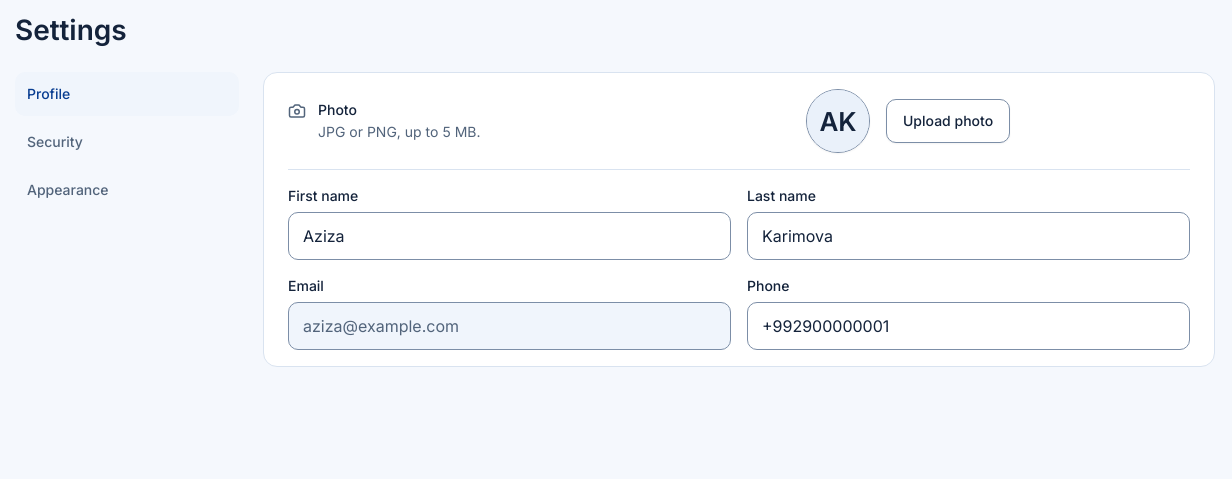
Test: Profile section › shows the save bar only when a value differs and discards back to the saved value
The width and height of the screenshot is (1232, 479).
Replace the text in the field labelled "First name" with "Zarina" at (510, 236), box [288, 212, 731, 260]
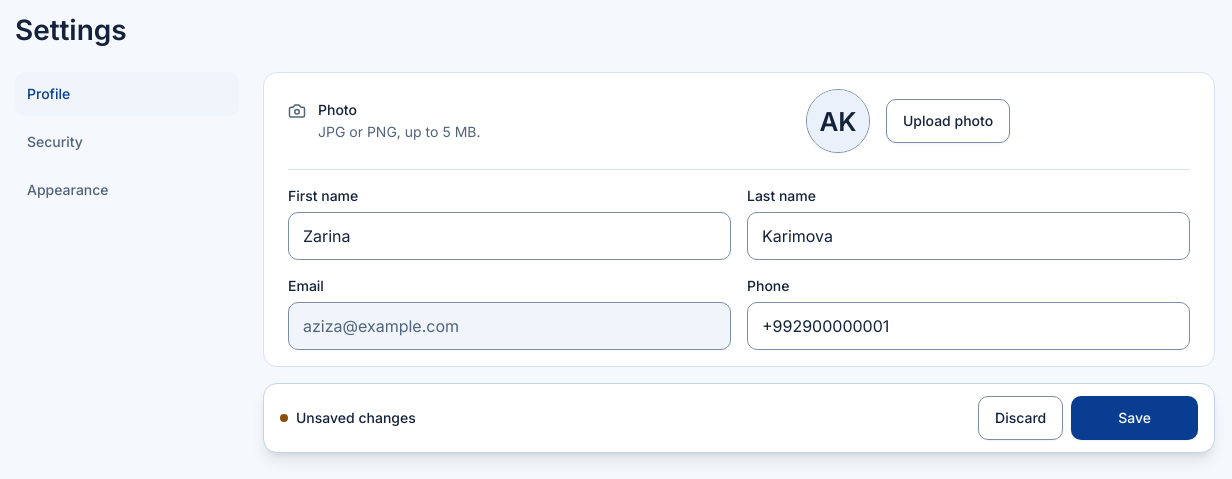
Result: the element with test id "settings-save-bar" is shown at [263, 383, 1215, 453]
Replace the text in the field labelled "First name" with "Aziza" at (510, 236), box [288, 212, 731, 260]
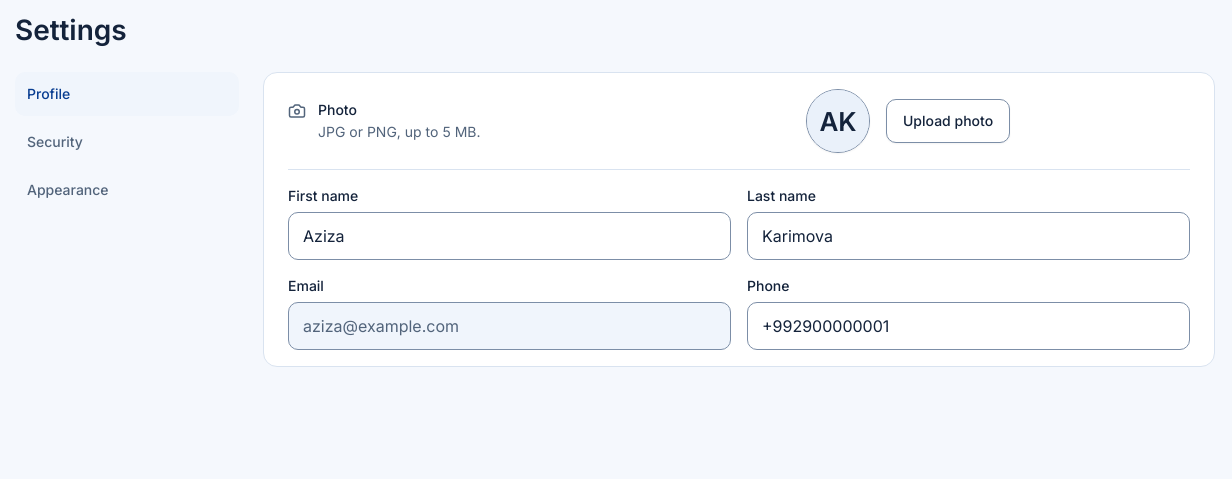
Result: the element with test id "settings-save-bar" is gone
Replace the text in the field labelled "First name" with "Zarina" at (510, 236), box [288, 212, 731, 260]
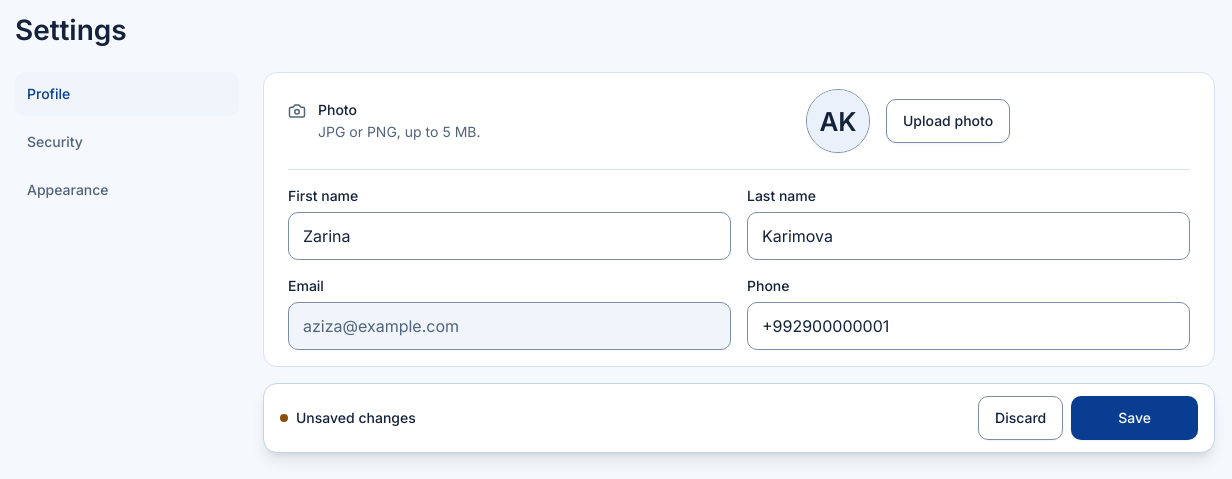
Click the button "Discard" at (1021, 418), box [978, 396, 1063, 440]
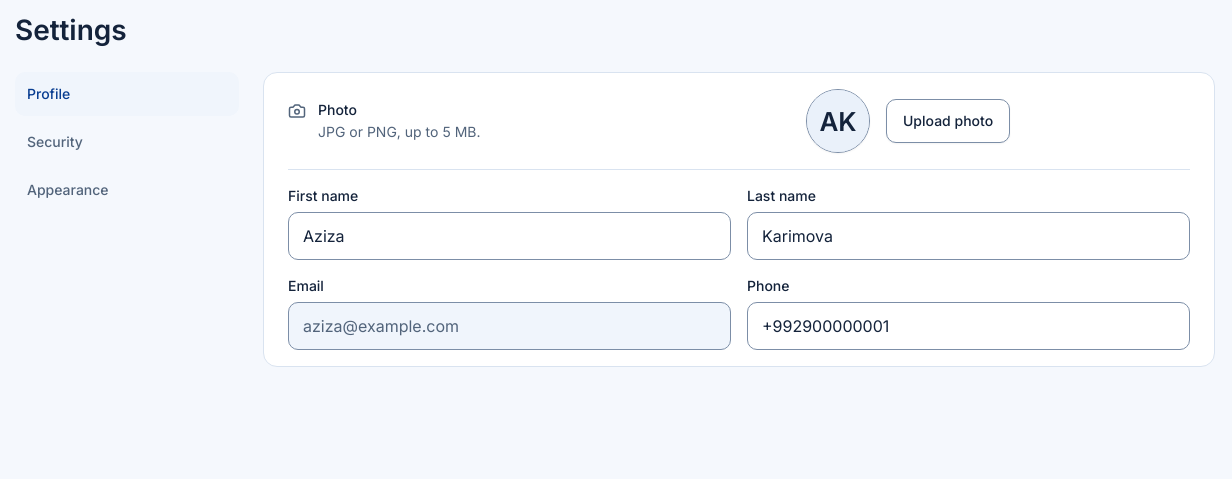
Result: the element with test id "settings-save-bar" is gone
